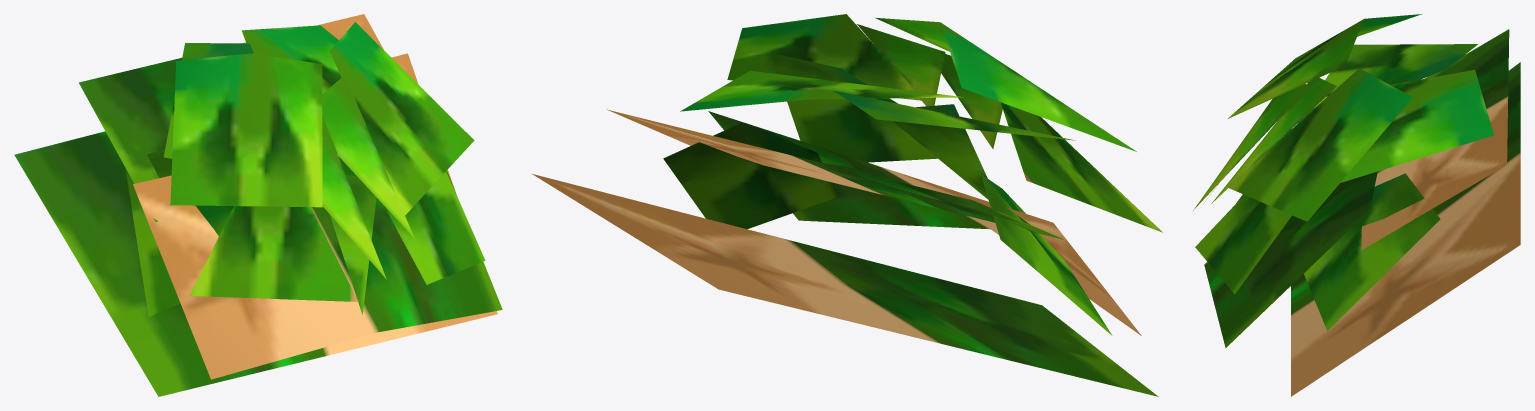
Rendered from fg_bushE_2.dae.
3 renders of one model, left to right at view 1: azimuth 30°, elevation 25°; view 2: azimuth 150°, elevation 25°; view 3: azimuth 270°, elevation 25°, orthographic. The views are drawn at different scales.
Parts seen in each view (by area): view 1: fg_bushE_2; view 2: fg_bushE_2; view 3: fg_bushE_2.
Boxes of the visible parts, left/top/right/bottom form: fg_bushE_2: left=14, top=14, right=502, bottom=396; fg_bushE_2: left=532, top=14, right=1162, bottom=396; fg_bushE_2: left=1193, top=14, right=1520, bottom=396.
Size of the model in its own units: 50.84 by 35.08 by 37.48.
1 material, 1 textured.
